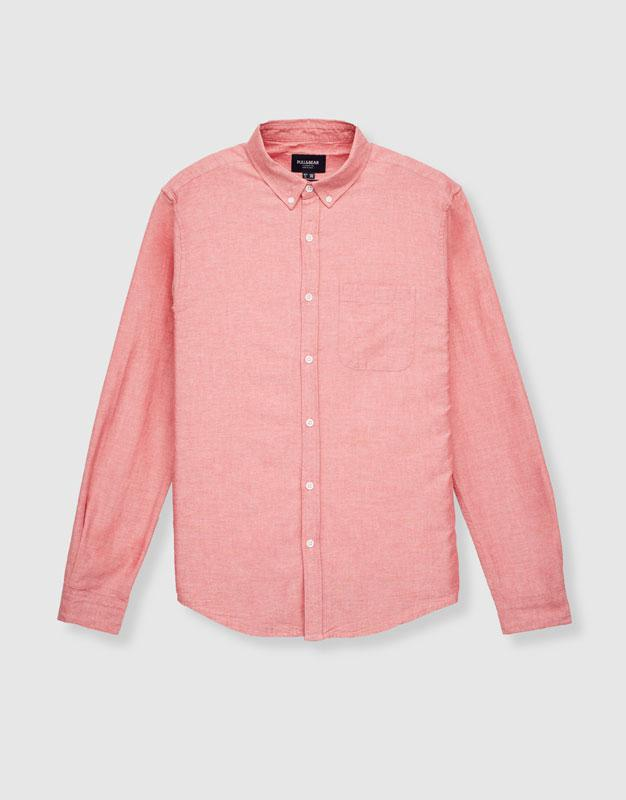teeshirt: (68, 118, 578, 664)
